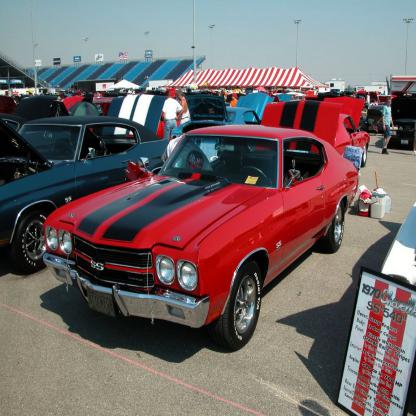Car: (0, 95, 390, 352)
